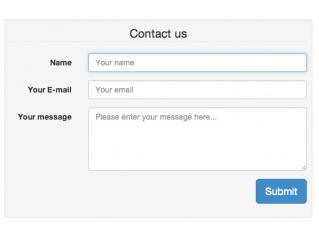button: (254, 177, 309, 205)
field: (86, 107, 308, 173), (86, 51, 308, 74), (86, 79, 309, 99)
field_with_label: (18, 106, 310, 174), (50, 49, 309, 76), (25, 78, 310, 100)
